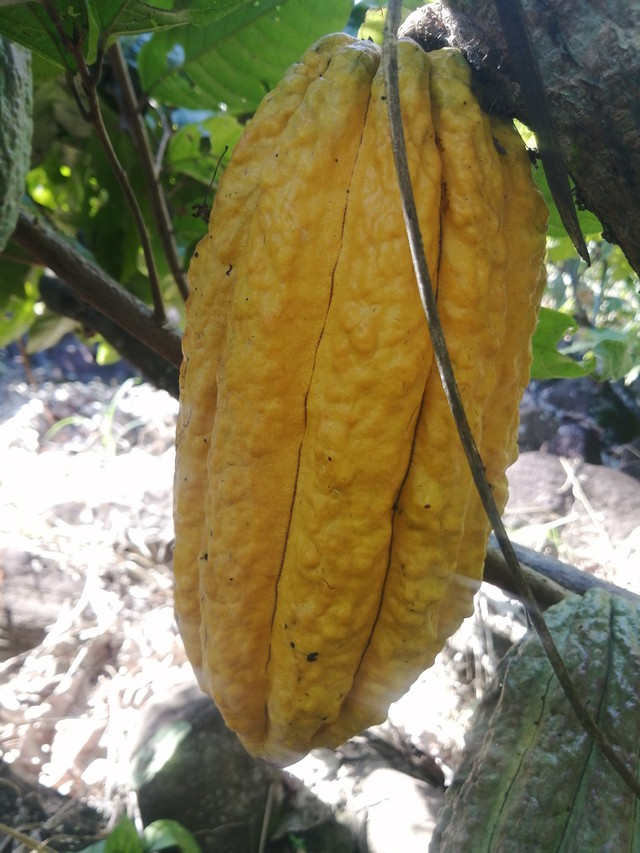Health: (155, 8, 559, 780)
